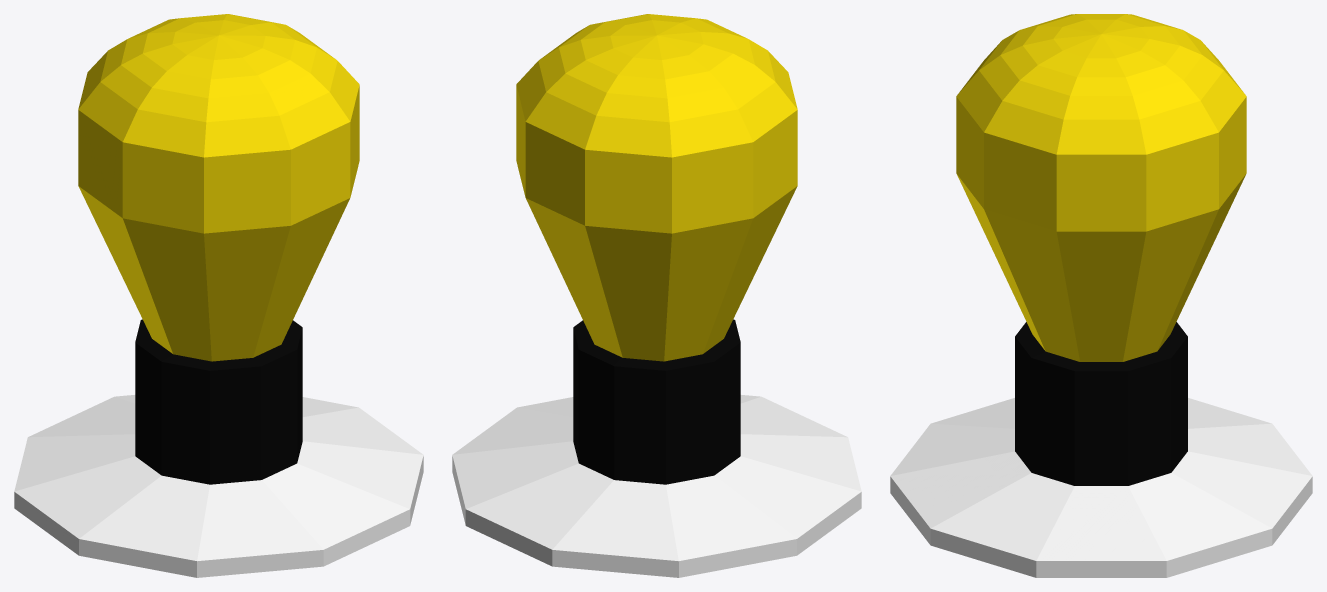
File: bulb.fbx
3 views of the same model, side by side, from view 1: azimuth 30°, elevation 25°; view 2: azimuth 150°, elevation 25°; view 3: azimuth 270°, elevation 25° (orthographic).
Visible parts, largest first — view 1: Cylinder.008, Cylinder.009, Cylinder.007; view 2: Cylinder.008, Cylinder.009, Cylinder.007; view 3: Cylinder.008, Cylinder.009, Cylinder.007.
Boxes of the visible parts, x1=… form: Cylinder.008: x1=78, y1=14, x2=359, y2=361; Cylinder.009: x1=14, y1=395, x2=423, y2=577; Cylinder.007: x1=135, y1=319, x2=302, y2=484; Cylinder.008: x1=516, y1=14, x2=797, y2=361; Cylinder.009: x1=452, y1=395, x2=861, y2=577; Cylinder.007: x1=573, y1=319, x2=740, y2=484; Cylinder.008: x1=956, y1=14, x2=1246, y2=361; Cylinder.009: x1=890, y1=398, x2=1312, y2=577; Cylinder.007: x1=1015, y1=322, x2=1187, y2=485.
Size of the model in its own units: 277 by 349 by 291.
